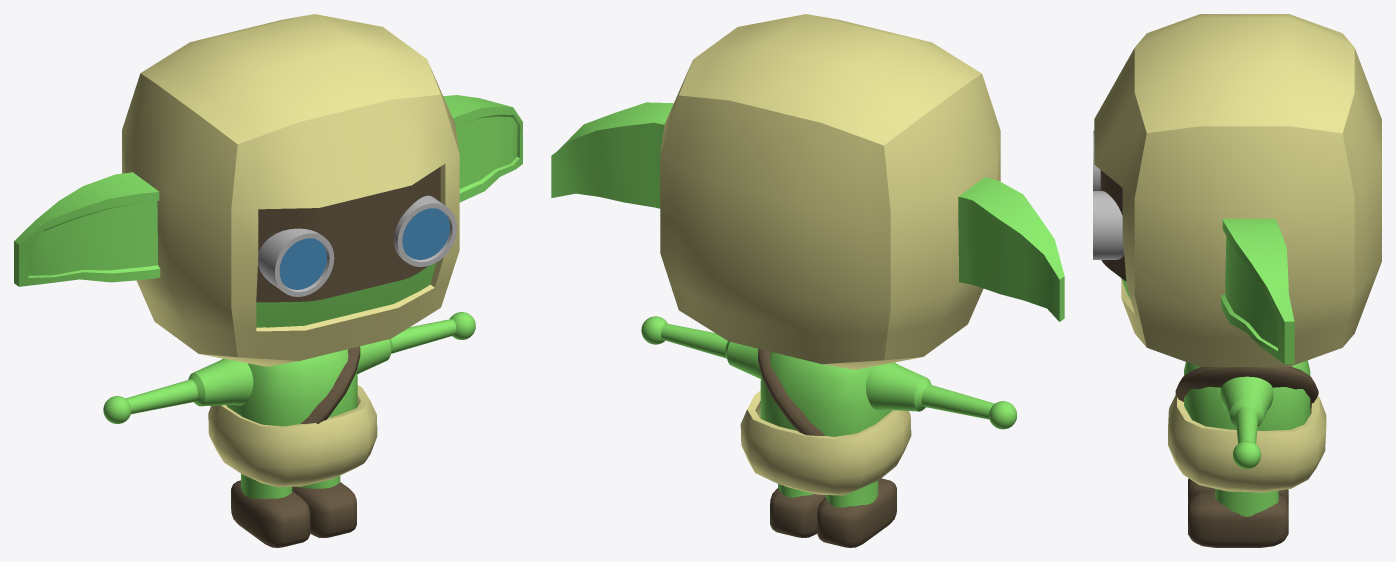
File: gobelin.fbx
3 views of the same model, side by side, from view 1: azimuth 30°, elevation 25°; view 2: azimuth 150°, elevation 25°; view 3: azimuth 270°, elevation 25° (orthographic).
Parts seen in each view (by area): view 1: capuche, oreilles, Plane, cou.001, Cylinder.003, Cylinder.002, cou.002, tete, Cube.006, Cube.007, Cube, Cylinder; view 2: capuche, oreilles, cou.001, Cylinder.002, cou.002, Cube.006, Cube.007, Cube, Cylinder; view 3: capuche, cou.001, oreilles, Cube.007, cou.002, Cylinder.002, Cube, Cylinder.003, Cylinder.001, Plane, Cube.006.
Part boxes in pixels (box(x1,y1,x2,y2)): capuche: box(122, 14, 459, 366); oreilles: box(14, 95, 522, 286); Plane: box(256, 167, 440, 302); cou.001: box(208, 385, 377, 487); Cylinder.003: box(258, 195, 456, 296); Cylinder.002: box(103, 312, 475, 423); cou.002: box(226, 349, 357, 426); tete: box(256, 263, 435, 327); Cube.006: box(231, 480, 310, 547); Cube.007: box(292, 482, 356, 537); Cube: box(300, 346, 360, 423); Cylinder: box(241, 474, 292, 498); capuche: box(660, 14, 1000, 369); oreilles: box(551, 102, 1064, 321); cou.001: box(740, 390, 911, 495); Cylinder.002: box(641, 316, 1016, 429); cou.002: box(760, 352, 891, 436); Cube.006: box(817, 478, 896, 547); Cube.007: box(770, 488, 826, 537); Cube: box(758, 349, 825, 435); Cylinder: box(826, 481, 878, 507); capuche: box(1094, 14, 1381, 366); cou.001: box(1168, 395, 1326, 492); oreilles: box(1221, 218, 1294, 364); Cube.007: box(1188, 490, 1288, 547); cou.002: box(1184, 360, 1310, 430); Cylinder.002: box(1220, 376, 1273, 468); Cube: box(1175, 366, 1318, 408); Cylinder.003: box(1093, 130, 1124, 259); Cylinder.001: box(1215, 489, 1278, 516); Plane: box(1100, 170, 1126, 281); Cube.006: box(1188, 478, 1288, 503).
Size of the model in its own units: 218 by 201 by 107.
